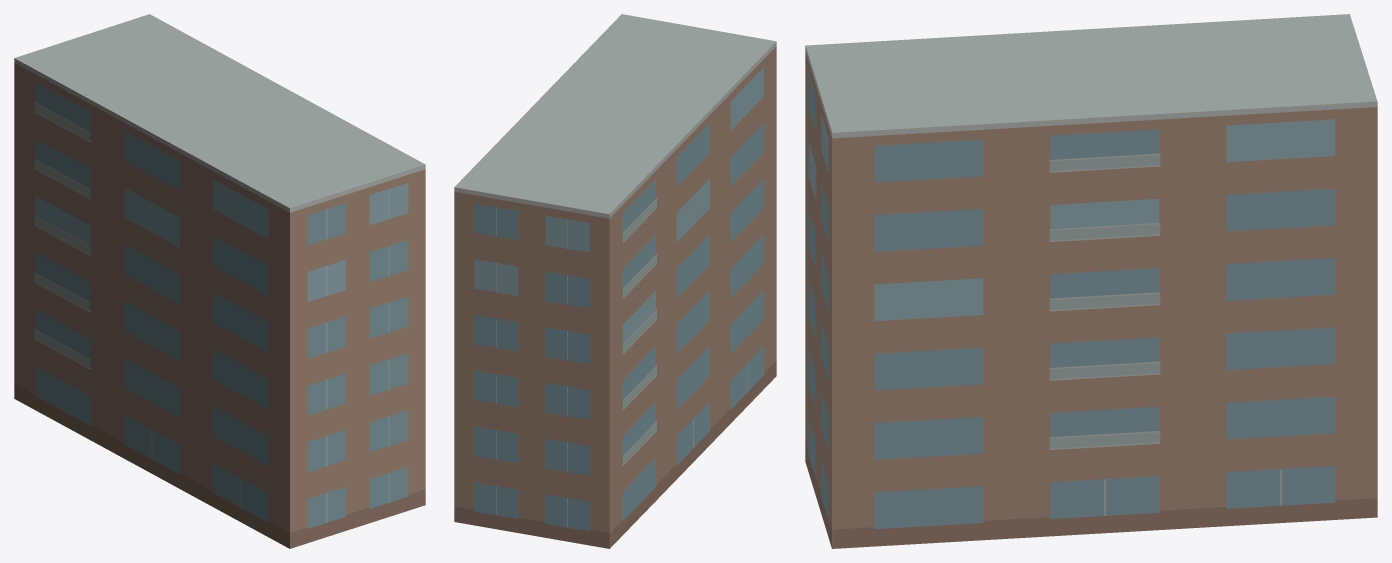
File: survey-upis-32722054.glb
3 views of the same model, side by side, from view 1: azimuth 30°, elevation 25°; view 2: azimuth 150°, elevation 25°; view 3: azimuth 270°, elevation 25° (orthographic). The views are drawn at different scales.
Parts seen in each view (by area): view 1: survey-upis-32722054.tmp; view 2: survey-upis-32722054.tmp; view 3: survey-upis-32722054.tmp.
Boxes of the visible parts, bbox=[...] form: survey-upis-32722054.tmp: bbox=[14, 14, 425, 548]; survey-upis-32722054.tmp: bbox=[454, 14, 776, 548]; survey-upis-32722054.tmp: bbox=[805, 14, 1377, 548].
Bounding box in the file's own units: 11.23 × 18.3 × 22.82.
